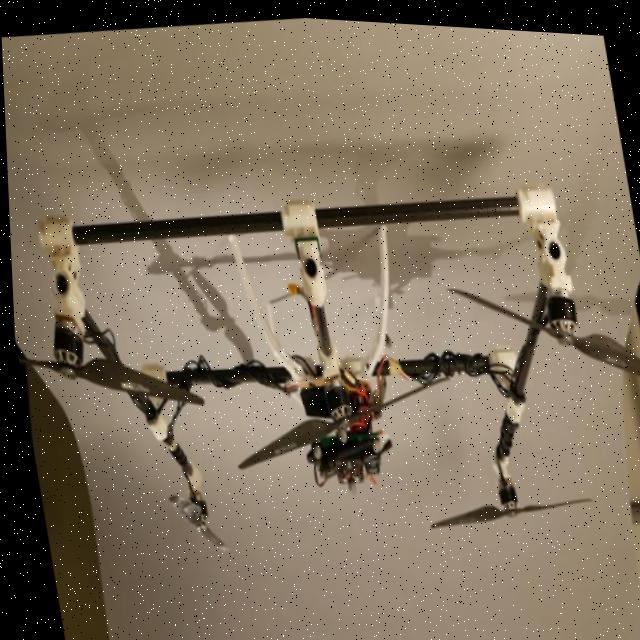drones: (4, 104, 640, 616)
